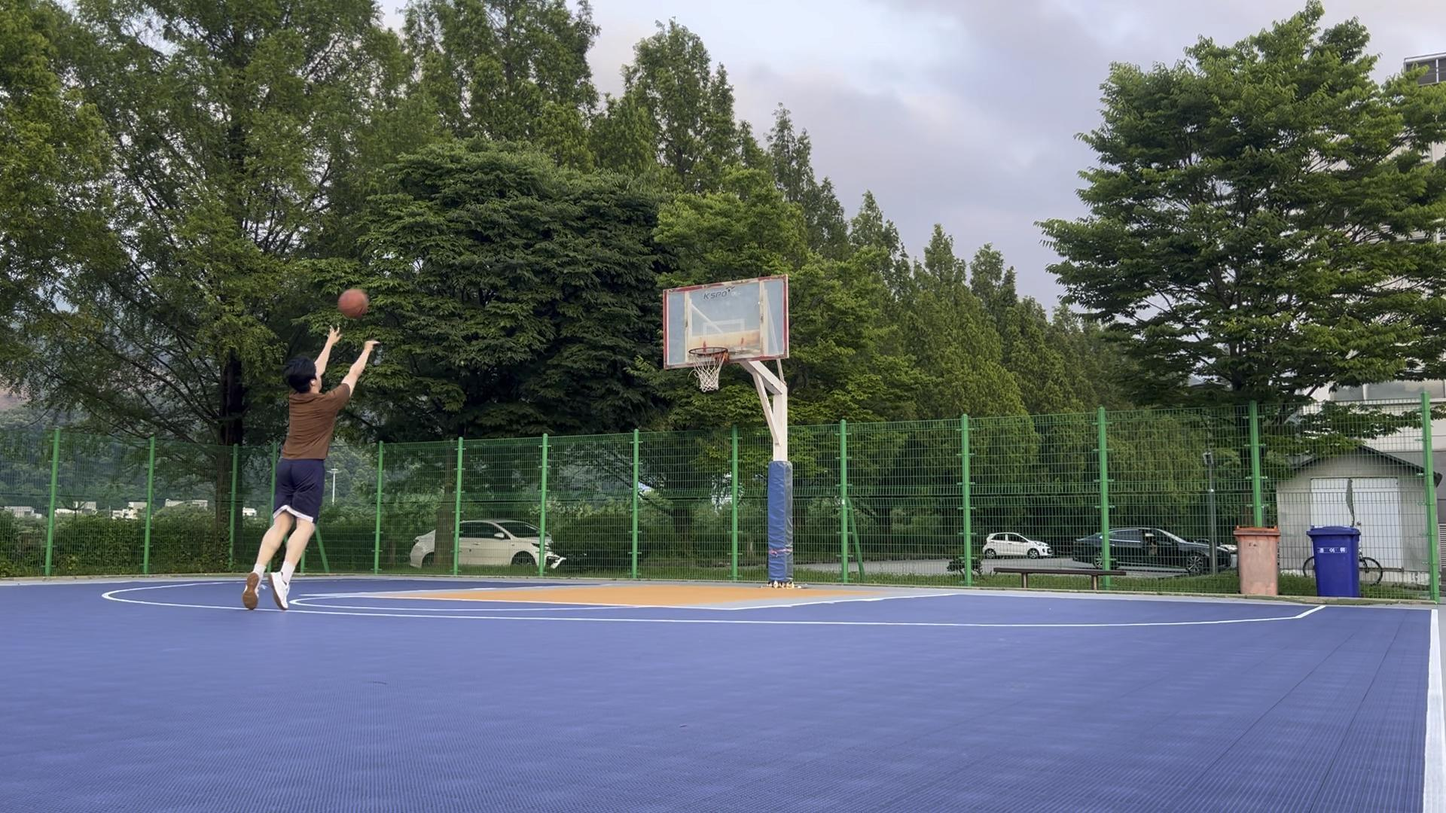ball: (336, 287, 371, 320)
human: (240, 321, 383, 612)
rim: (687, 346, 729, 394)
